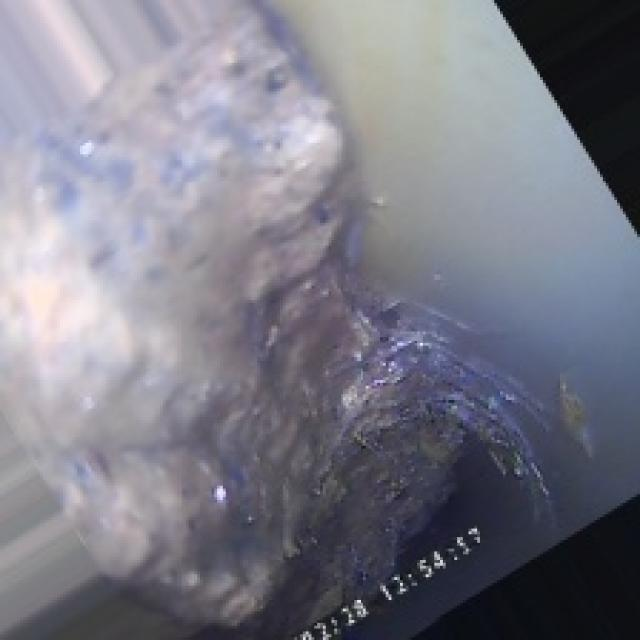sluge accumulation: (94, 74, 523, 557)
